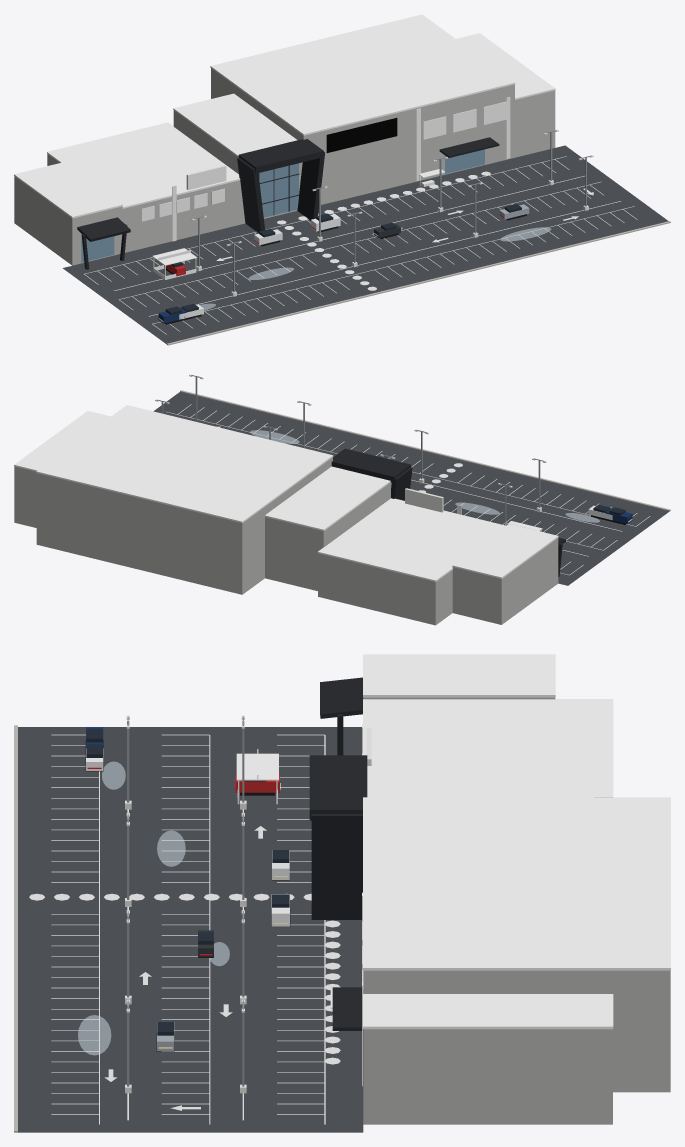
Rendered from cocody-playce.glb.
3 views of the same model, one above another, from view 1: azimuth 30°, elevation 25°; view 2: azimuth 150°, elevation 25°; view 3: azimuth 270°, elevation 25° (orthographic). The views are drawn at different scales.
Size of the model in its own units: 100 by 14.71 by 68.45.
